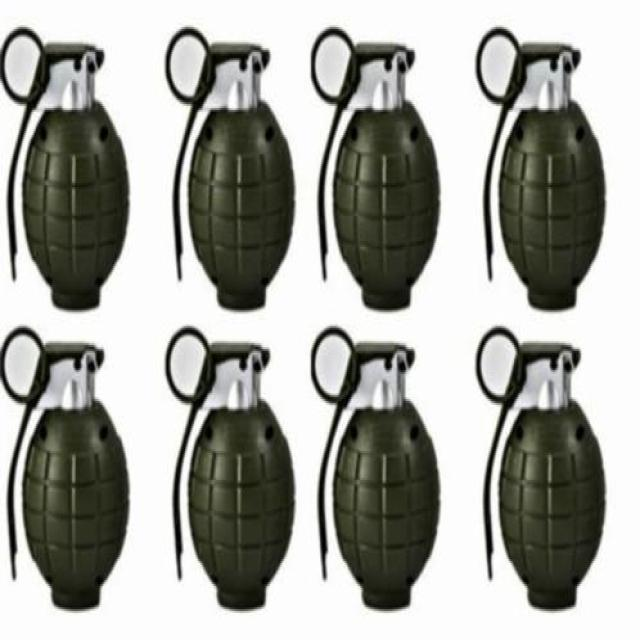grenade: (476, 28, 607, 315), (166, 30, 297, 315), (167, 329, 297, 616), (1, 329, 131, 616), (477, 329, 607, 614), (1, 30, 131, 315), (313, 329, 442, 614), (313, 36, 442, 317)
